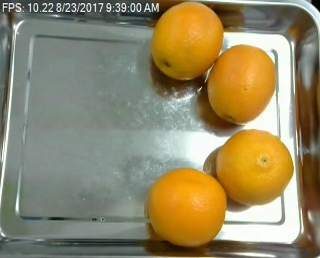Orange: (145, 168, 226, 246), (215, 129, 292, 206), (150, 2, 224, 80), (206, 44, 275, 123)
